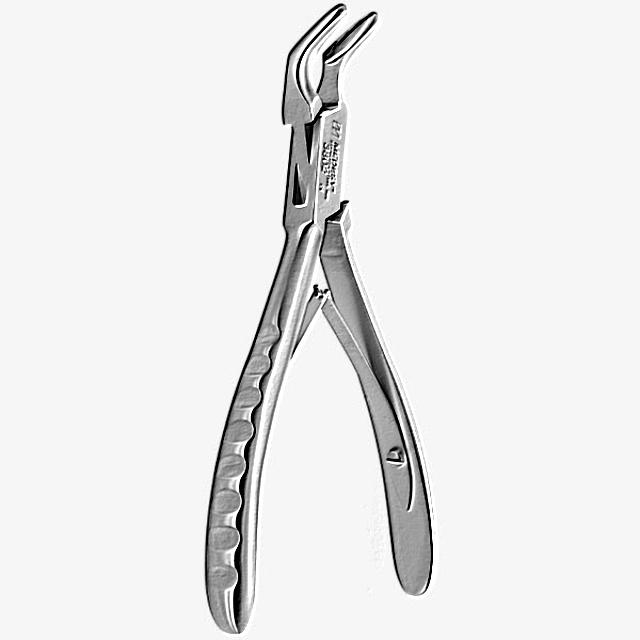gubia: (203, 2, 440, 639)
